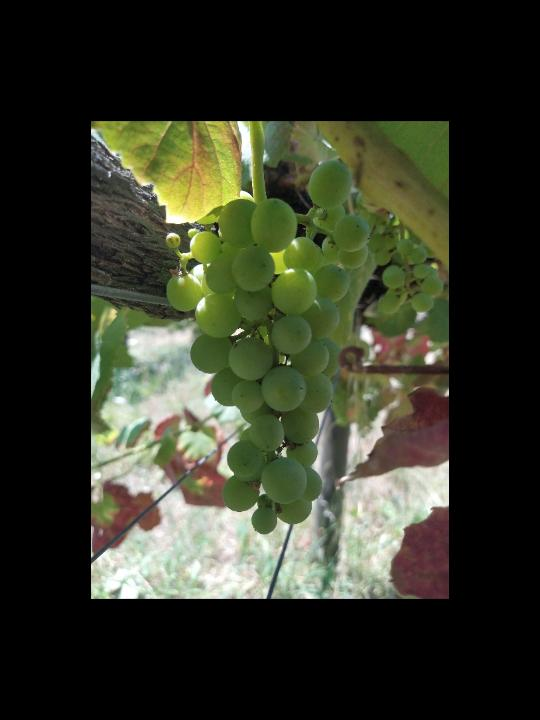grape: (165, 159, 377, 536)
